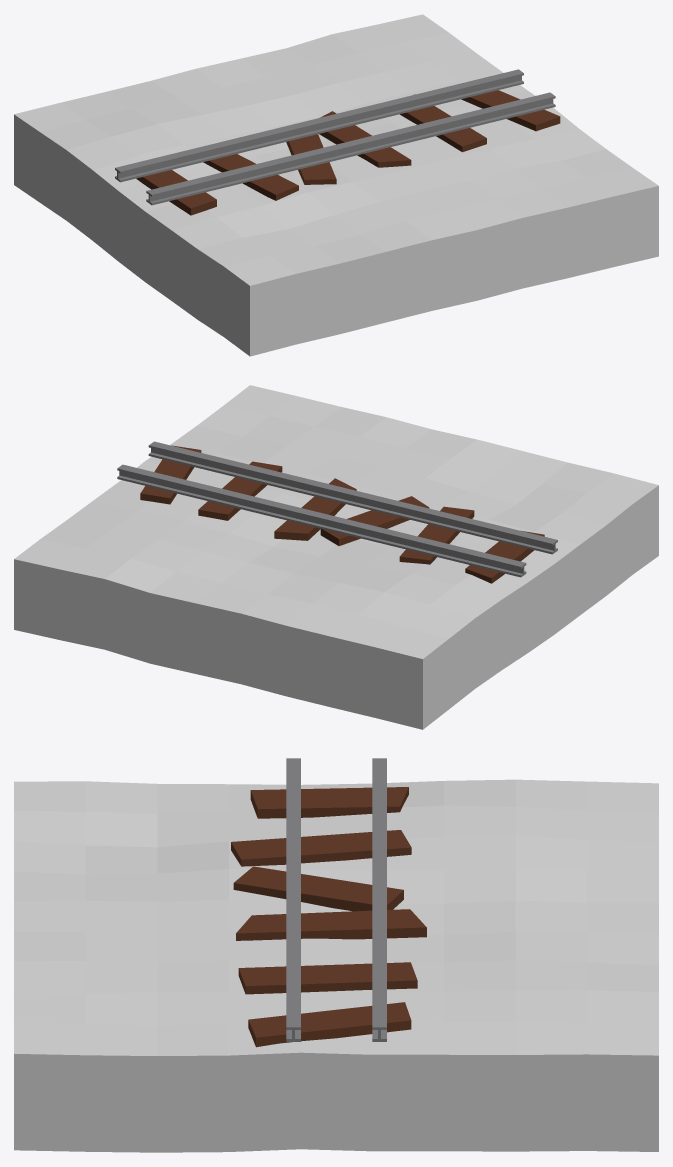
3 renders of one model, top to bottom at view 1: azimuth 30°, elevation 25°; view 2: azimuth 150°, elevation 25°; view 3: azimuth 270°, elevation 25°, orthographic. The views are drawn at different scales.
Parts seen in each view (by area): view 1: Node_2_Ground, Node_2; view 2: Node_2_Ground, Node_2; view 3: Node_2_Ground, Node_2.
Boxes of the visible parts, bbox=[...] form: Node_2_Ground: bbox=[14, 14, 658, 356]; Node_2: bbox=[115, 69, 560, 215]; Node_2_Ground: bbox=[14, 385, 658, 729]; Node_2: bbox=[117, 441, 557, 583]; Node_2_Ground: bbox=[14, 779, 658, 1152]; Node_2: bbox=[231, 758, 426, 1047].
Bounding box in the file's own units: 118 × 25.07 × 118.
